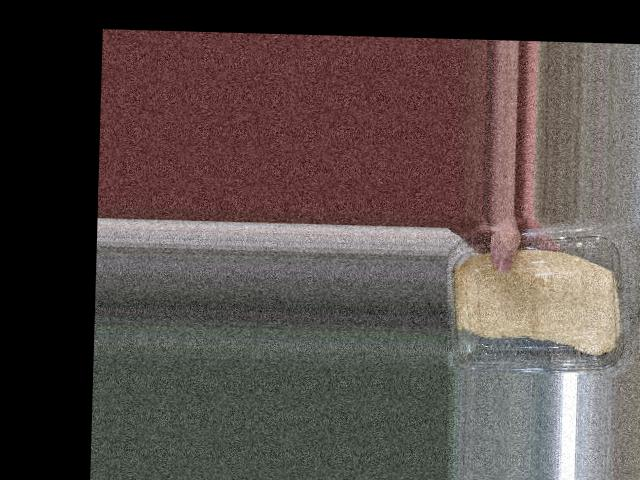cheese: (442, 238, 640, 377)
